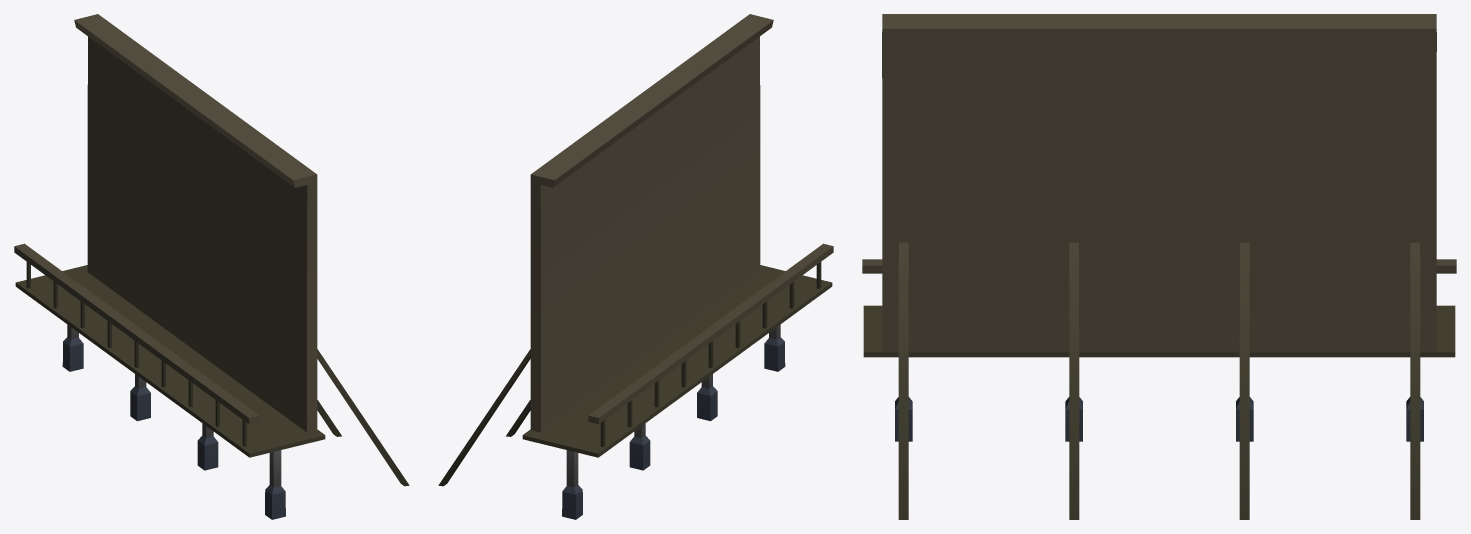
The model's file is Bilboard_1_A.glb.
The picture shows the model from 3 angles, left to right: view 1: azimuth 30°, elevation 25°; view 2: azimuth 150°, elevation 25°; view 3: azimuth 270°, elevation 25°; orthographic projection. The views are drawn at different scales.
Parts seen in each view (by area): view 1: Bilboard_1_A; view 2: Bilboard_1_A; view 3: Bilboard_1_A.
Boxes of the visible parts, bbox=[...] form: Bilboard_1_A: bbox=[14, 14, 409, 519]; Bilboard_1_A: bbox=[438, 14, 833, 519]; Bilboard_1_A: bbox=[862, 14, 1456, 519].
Size of the model in its own units: 1.28 by 2.38 by 2.98.
1 material, 1 textured.
